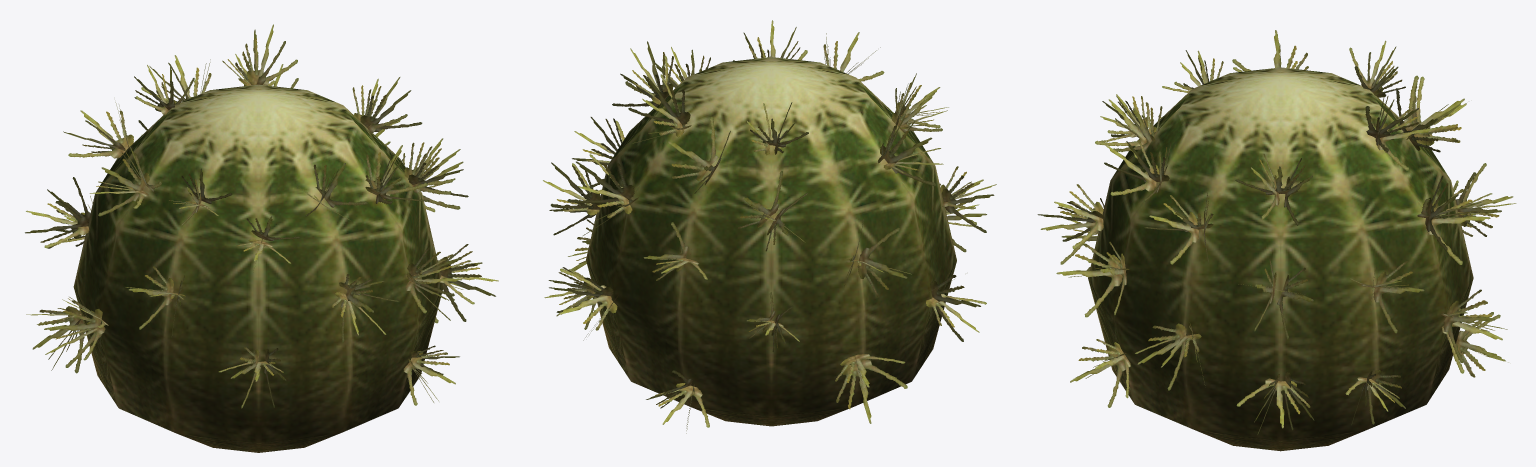
The model's file is yw_yiwangfeixu_xianrenzhang02.FBX.
3 views of the same model, side by side, from view 1: azimuth 30°, elevation 25°; view 2: azimuth 150°, elevation 25°; view 3: azimuth 270°, elevation 25° (orthographic). The views are drawn at different scales.
Visible parts, largest first — view 1: yw_yiwangfeixu_xianrenzhang02; view 2: yw_yiwangfeixu_xianrenzhang02; view 3: yw_yiwangfeixu_xianrenzhang02.
Part boxes in pixels (x1,y1,x2,y2): yw_yiwangfeixu_xianrenzhang02: (25, 24, 498, 452); yw_yiwangfeixu_xianrenzhang02: (543, 20, 996, 433); yw_yiwangfeixu_xianrenzhang02: (1037, 30, 1516, 451).
Bounding box in the file's own units: 114 × 88.82 × 108.
